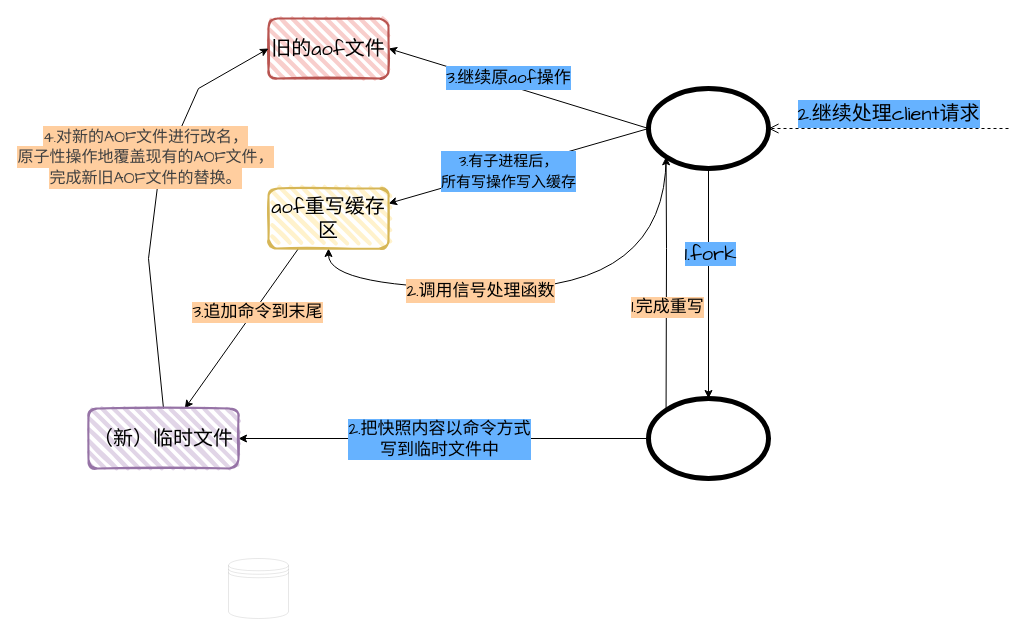
Image size: 1036x635. Some labels were removed from this diagram. The shapes that lost their labels are listed below. From the top down, each one's centre as x and y in pixels, then its label:
At point (708, 128): "父进程".
At point (708, 438): "子进程".
